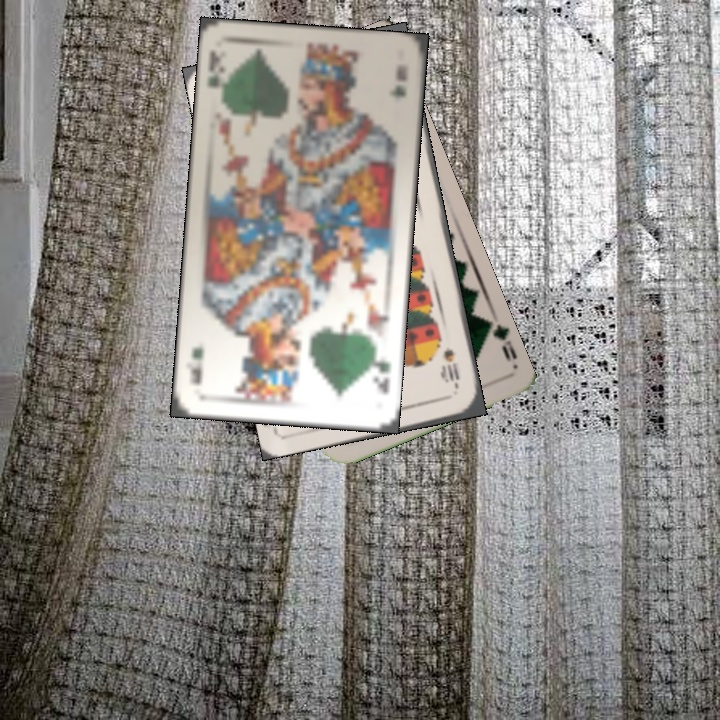G9: (481, 316, 520, 364)
GK: (202, 45, 230, 103), (369, 346, 393, 396)
S10: (439, 344, 463, 391)
